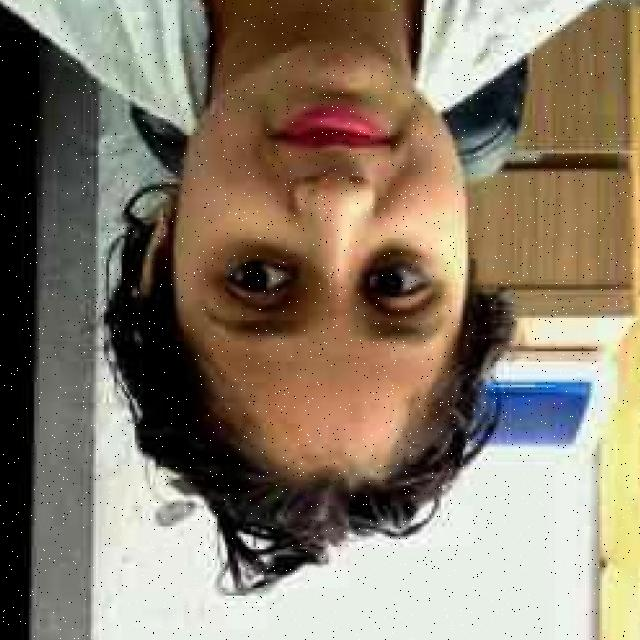puffy_eyes: (366, 249, 429, 270)
